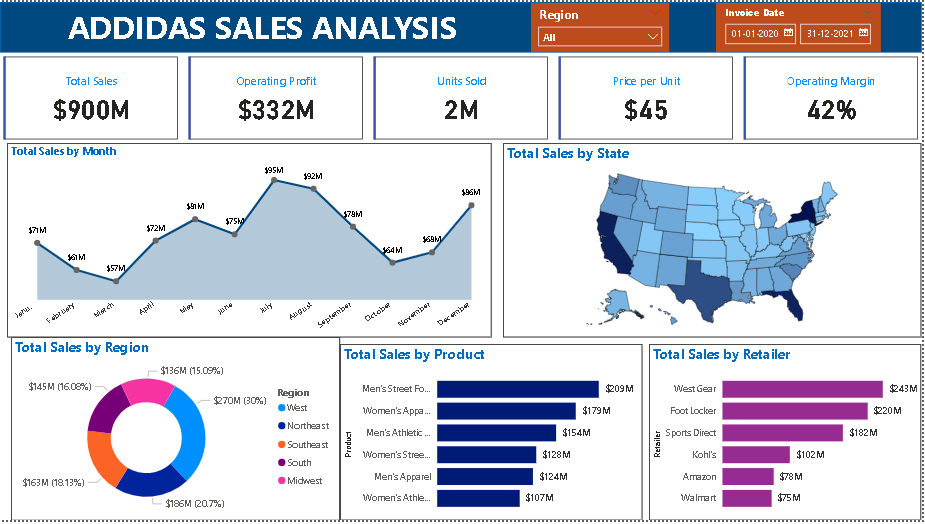

Layout of this report page (visuals, bound fields, positions):
{"tool":"powerbi","page":{"name":"Page 1","canvas":[1280,720],"ordinal":0},"visuals":[{"type":"shape","box":[0,0,1280,70.3],"z":0},{"type":"textbox","box":[89,0,624.9,68.9],"z":1000},{"type":"cardVisual","fields":{"Data":["Sum(Data Sales Adidas.Total Sales)","Sum(Data Sales Adidas.Operating Profit)","Sum(Data Sales Adidas.Units Sold)","Avg(Data Sales Adidas.Price per Unit)","Avg(Data Sales Adidas.Operating Margin)"]},"box":[0,70.2,1280,125.2],"z":2000},{"type":"areaChart","title":"Total Sales by Month","fields":{"Category":["Data Sales Adidas.Invoice Date.Variation.Date Hierarchy.Month"],"Y":["Sum(Data Sales Adidas.Total Sales)"]},"box":[9.6,195.4,673,269.8],"z":3000},{"type":"shapeMap","title":" Total Sales by State","fields":{"Category":["Data Sales Adidas.State"],"Value":["Sum(Data Sales Adidas.Total Sales)"]},"box":[699.2,195.4,580.8,269.8],"z":4000},{"type":"donutChart","title":" Total Sales by Region","fields":{"Category":["Data Sales Adidas.Region"],"Y":["Sum(Data Sales Adidas.Total Sales)"]},"box":[15.1,465.2,456.9,254.6],"z":5000},{"type":"clusteredBarChart","title":"Total Sales by Product","fields":{"Category":["Data Sales Adidas.Product"],"Y":["Sum(Data Sales Adidas.Total Sales)"]},"box":[472.1,474.8,419.8,245],"z":6000},{"type":"clusteredBarChart","title":"Total Sales by Retailer","fields":{"Y":["Sum(Data Sales Adidas.Total Sales)"],"Category":["Data Sales Adidas.Retailer"]},"box":[901.5,474.8,378.5,245],"z":7000},{"type":"slicer","fields":{"Values":["Data Sales Adidas.Region"]},"box":[737.1,1.4,191.5,67.5],"z":8000},{"type":"slicer","fields":{"Values":["Data Sales Adidas.Invoice Date"]},"box":[994.8,1.4,228.7,67.5],"z":9000}]}

Visuals, with their boxes in screenshot pixels (x1, y1, x2, y2), scaled from the page's 1280x720 canvas onto the 925x524 screenshot:
shape: l=0, t=0, r=924, b=51
textbox: l=64, t=0, r=516, b=50
cardVisual - Sum(Data Sales Adidas.Total Sales) x Sum(Data Sales Adidas.Operating Profit): l=0, t=51, r=924, b=142
"Total Sales by Month" areaChart: l=7, t=142, r=493, b=339
" Total Sales by State" shapeMap: l=505, t=142, r=924, b=339
" Total Sales by Region" donutChart: l=11, t=339, r=341, b=523
"Total Sales by Product" clusteredBarChart: l=341, t=346, r=645, b=523
"Total Sales by Retailer" clusteredBarChart: l=651, t=346, r=924, b=523
slicer - Data Sales Adidas.Region: l=533, t=1, r=671, b=50
slicer - Data Sales Adidas.Invoice Date: l=719, t=1, r=884, b=50
